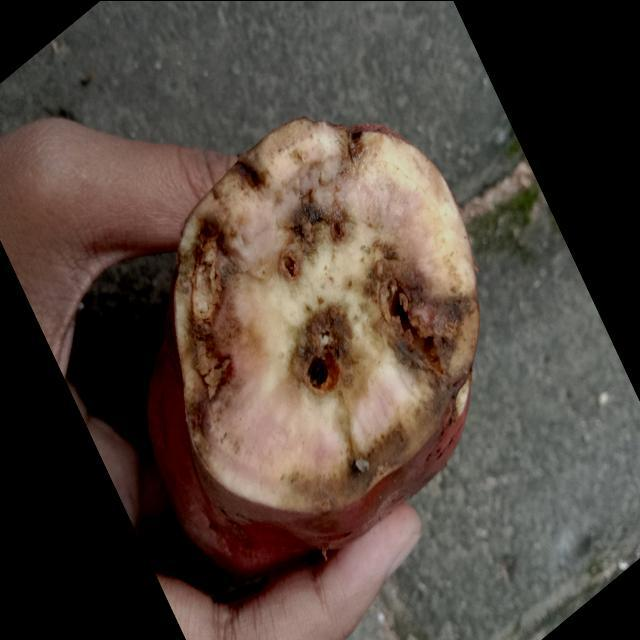Sick Sweet Potato_Tuber Rot: (172, 118, 479, 547)
